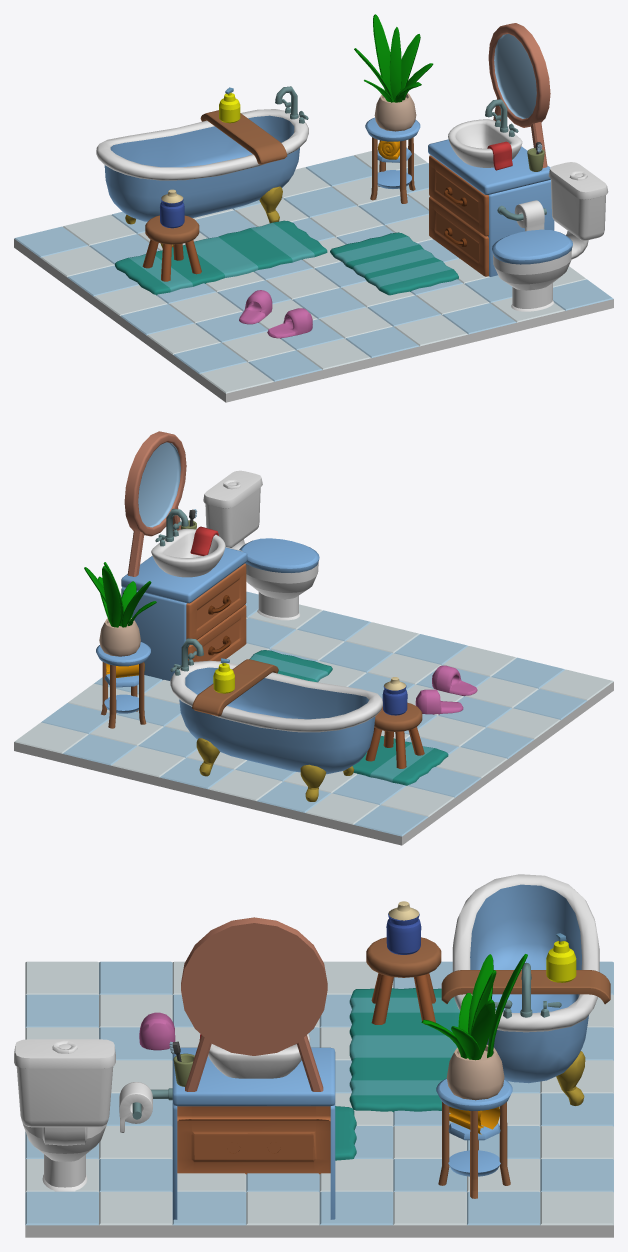
Rendered from bathroom.fbx.
3 renders of one model, top to bottom at view 1: azimuth 30°, elevation 25°; view 2: azimuth 150°, elevation 25°; view 3: azimuth 270°, elevation 25°, orthographic. The views are drawn at different scales.
Visible parts, largest first — view 1: polySurface21, polySurface22, polySurface66, polySurface53, base, polySurface29, polySurface49, polySurface67, polySurface77, polySurface76, model_0.018, pCube2 (+18 smaller); view 2: polySurface22, polySurface21, polySurface66, polySurface29, polySurface53, base, polySurface67, polySurface49, pCube2, polySurface51, model_0.010, polySurface52 (+16 smaller); view 3: polySurface22, polySurface21, pCube2, polySurface66, polySurface53, polySurface49, base, polySurface29, polySurface77, polySurface67, polySurface76, model_0.018 (+15 smaller).
Part boxes in pixels (left/top/right/bottom): polySurface21: left=14, top=155, right=613, bottom=381; polySurface22: left=41, top=147, right=586, bottom=393; polySurface66: left=104, top=115, right=299, bottom=221; polySurface53: left=492, top=162, right=608, bottom=311; base: left=14, top=239, right=613, bottom=402; polySurface29: left=428, top=139, right=554, bottom=276; polySurface49: left=429, top=155, right=488, bottom=276; polySurface67: left=96, top=109, right=308, bottom=180; polySurface77: left=115, top=220, right=327, bottom=295; polySurface76: left=128, top=222, right=314, bottom=291; model_0.018: left=354, top=14, right=433, bottom=102; pCube2: left=488, top=23, right=550, bottom=167; polySurface22: left=14, top=604, right=613, bottom=824; polySurface21: left=41, top=591, right=586, bottom=836; polySurface66: left=179, top=667, right=375, bottom=774; polySurface29: left=121, top=547, right=247, bottom=680; polySurface53: left=203, top=470, right=318, bottom=620; base: left=14, top=682, right=613, bottom=845; polySurface67: left=170, top=660, right=382, bottom=732; polySurface49: left=186, top=563, right=246, bottom=661; pCube2: left=124, top=431, right=186, bottom=576; polySurface51: left=138, top=442, right=180, bottom=527; model_0.010: left=151, top=528, right=225, bottom=577; polySurface52: left=239, top=538, right=319, bottom=572; polySurface22: left=25, top=961, right=613, bottom=1225; polySurface21: left=25, top=961, right=613, bottom=1225; pCube2: left=181, top=917, right=327, bottom=1091; polySurface66: left=470, top=884, right=588, bottom=1083; polySurface53: left=14, top=1039, right=115, bottom=1191; polySurface49: left=177, top=1106, right=330, bottom=1174; base: left=25, top=1225, right=613, bottom=1237; polySurface29: left=172, top=1047, right=335, bottom=1219; polySurface77: left=349, top=988, right=459, bottom=1112; polySurface67: left=452, top=874, right=599, bottom=1032; polySurface76: left=349, top=997, right=459, bottom=1095; model_0.018: left=421, top=954, right=527, bottom=1060.
Bounding box in the file's own units: 460 × 253 × 444.
